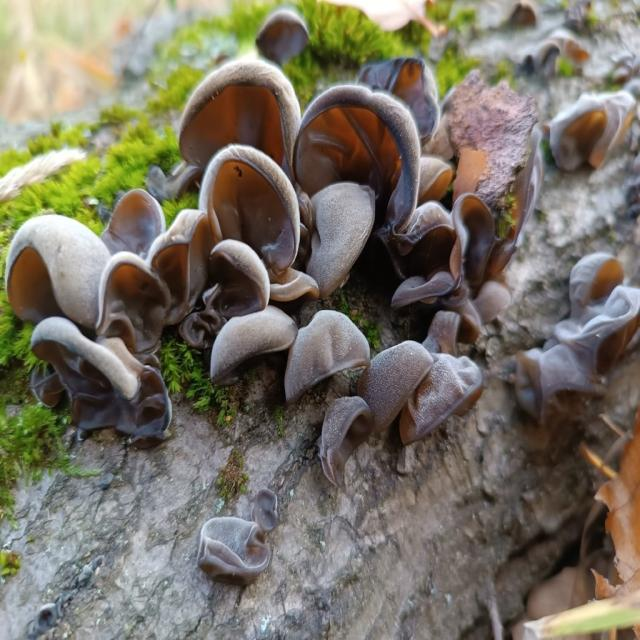Matang: (10, 6, 634, 478)
